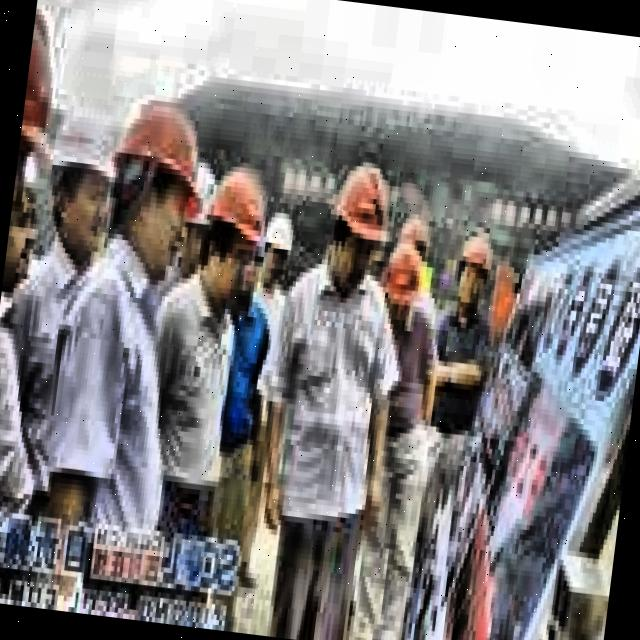helmet: (98, 80, 207, 272), (38, 84, 134, 264), (182, 152, 260, 311), (319, 158, 392, 291), (376, 221, 434, 322), (250, 196, 300, 290), (450, 230, 498, 320)
